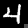number: (4, 6, 22, 16)
